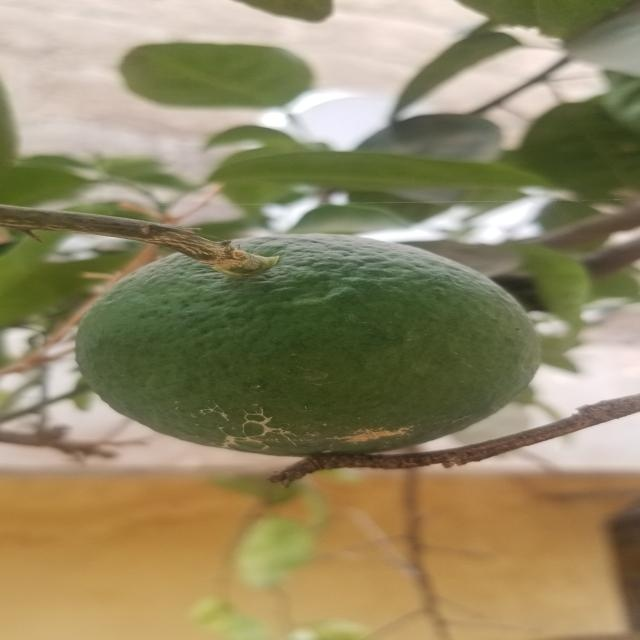agrume: (56, 223, 572, 472)
